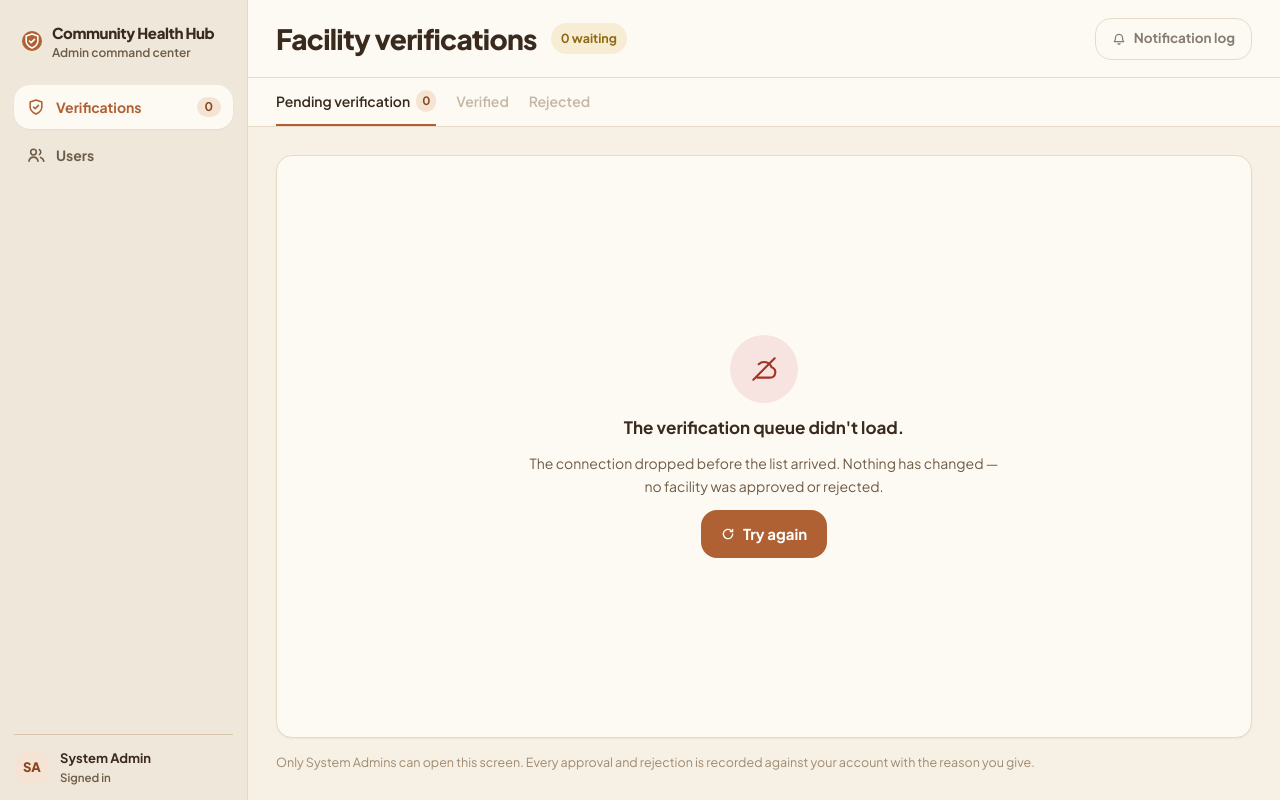
Test: PendingVerificationsPage › re-fetches when Try again is clicked after an error
Click the button "Try again". click: (764, 534)
box: 701,510 -> 827,558
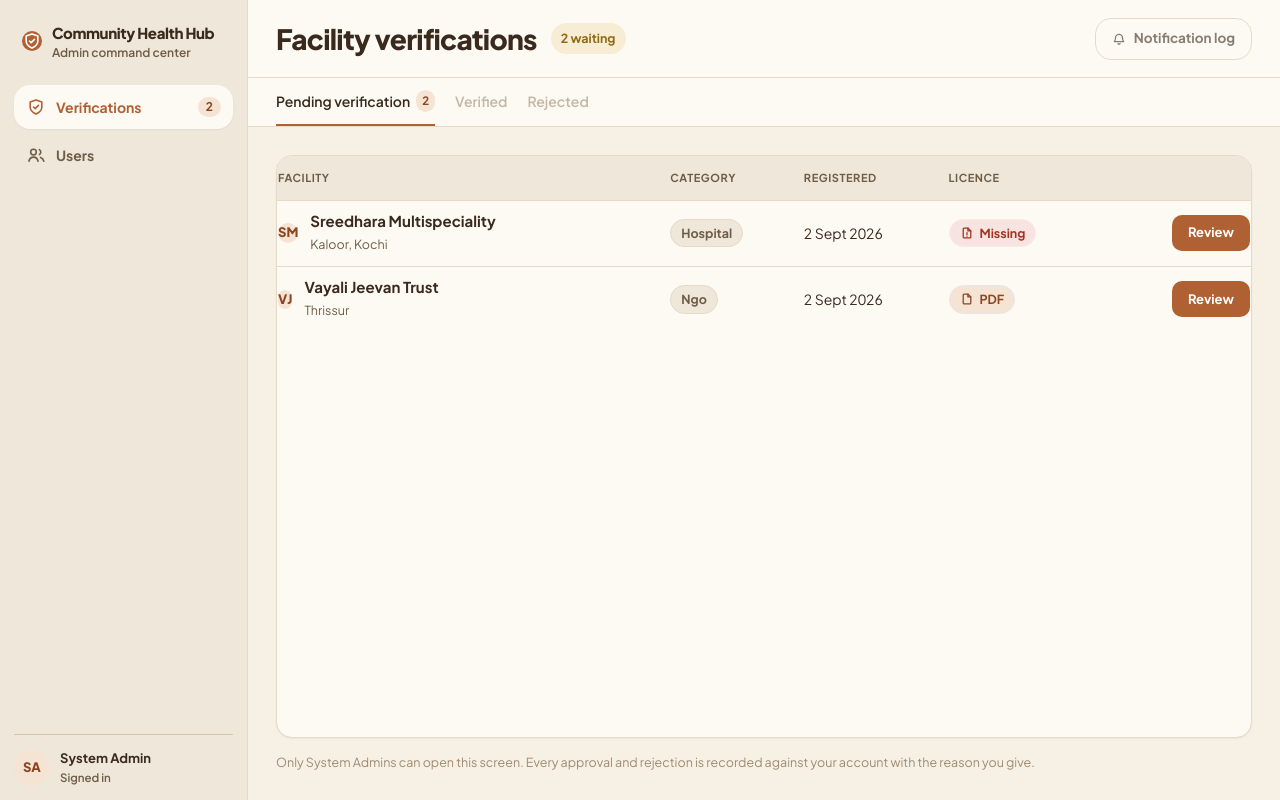
expect the text "Sreedhara Multispeciality" is shown: met, box 310,211 -> 496,231
